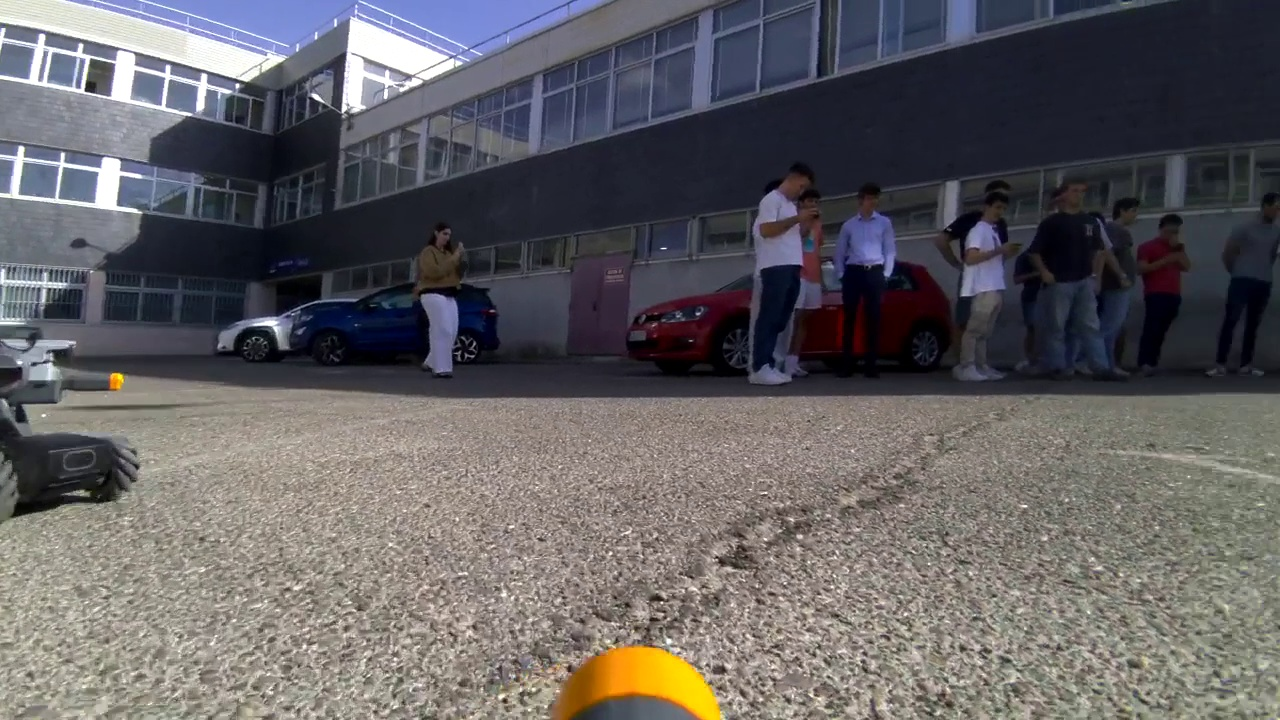robot: (3, 313, 147, 520)
